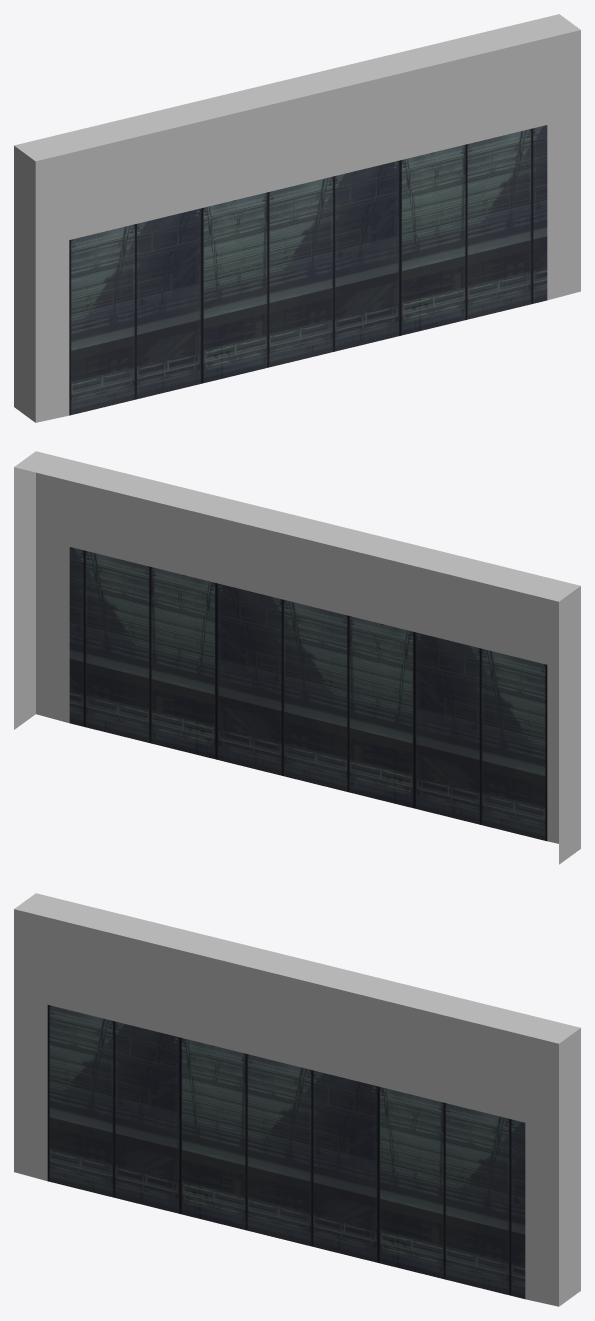
The model's file is MosconeEntry.FBX.
The picture shows the model from 3 angles, top to bottom: view 1: azimuth 30°, elevation 25°; view 2: azimuth 150°, elevation 25°; view 3: azimuth 330°, elevation 25°; orthographic projection.
Visible parts, largest first — view 1: MosconeEntryway; view 2: MosconeEntryway; view 3: MosconeEntryway.
Part boxes in pixels (x1,y1,x2,y2): MosconeEntryway: [14, 14, 580, 422]; MosconeEntryway: [14, 451, 580, 864]; MosconeEntryway: [14, 893, 580, 1306].
Bounding box in the file's own units: 9.46 × 4.36 × 0.705.
